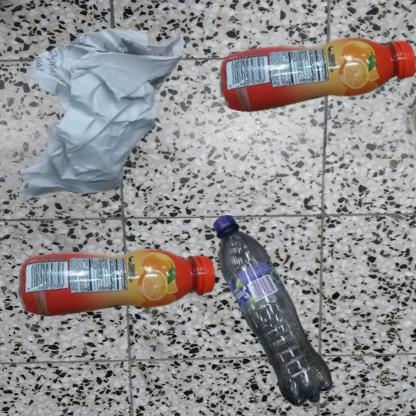botella: (10, 213, 249, 372), (213, 10, 416, 151), (213, 213, 332, 409)
papel: (10, 10, 191, 226)
